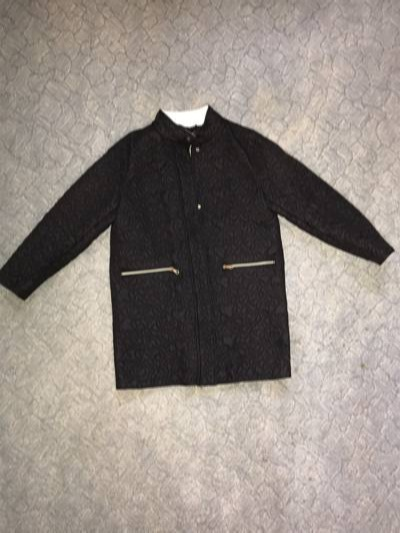Blazer: (23, 90, 384, 403)
